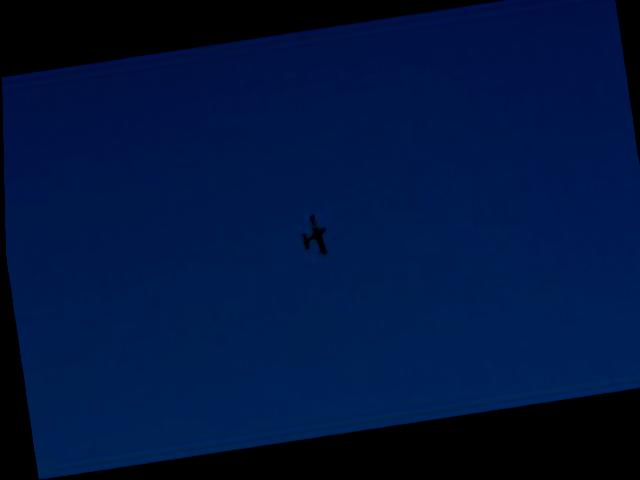uav: (295, 212, 331, 259)
